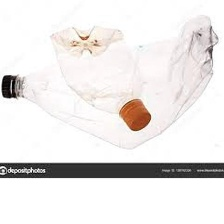bottle: (0, 12, 224, 158), (43, 18, 153, 133)
